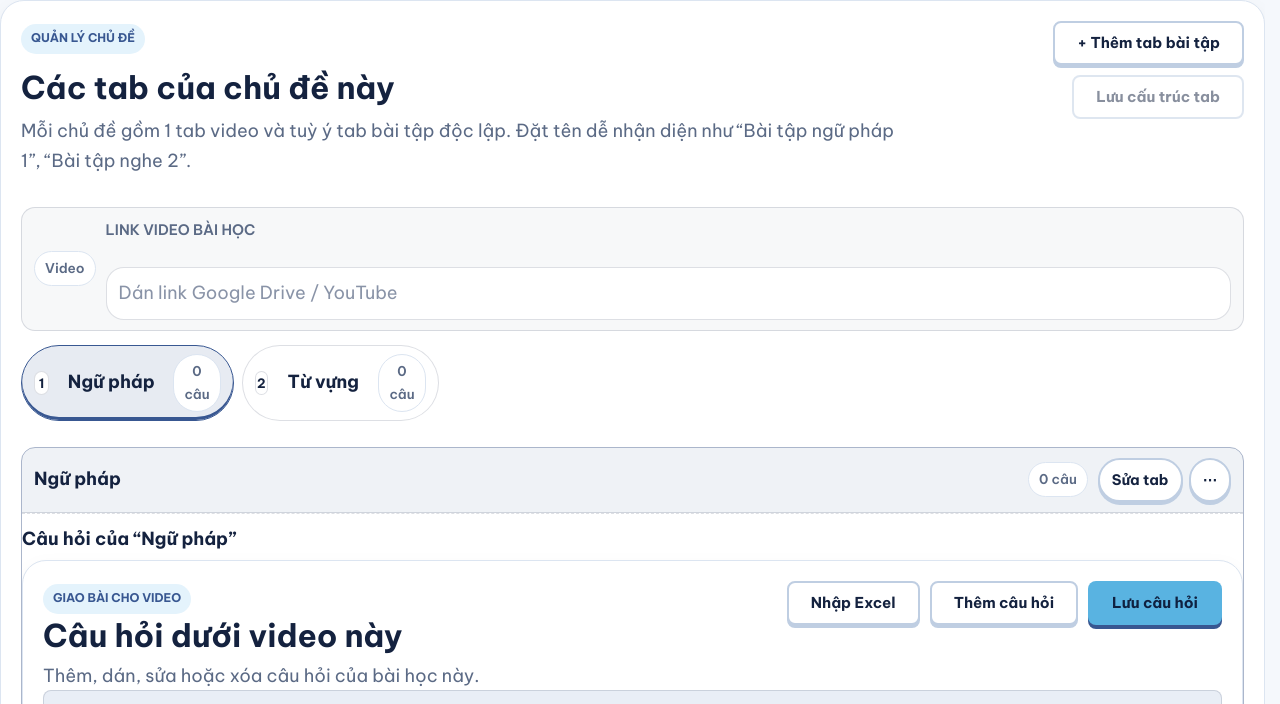
Scenario: LessonTabManager — nút Sửa tab › bấm "Sửa tab" mới mở ô đổi tên của tab đang mở
The width and height of the screenshot is (1280, 704).
Click the tab with class "lesson-tab-manager__chip" showing "2 Từ vựng 0 câu": click(340, 383) [242,345,439,420]
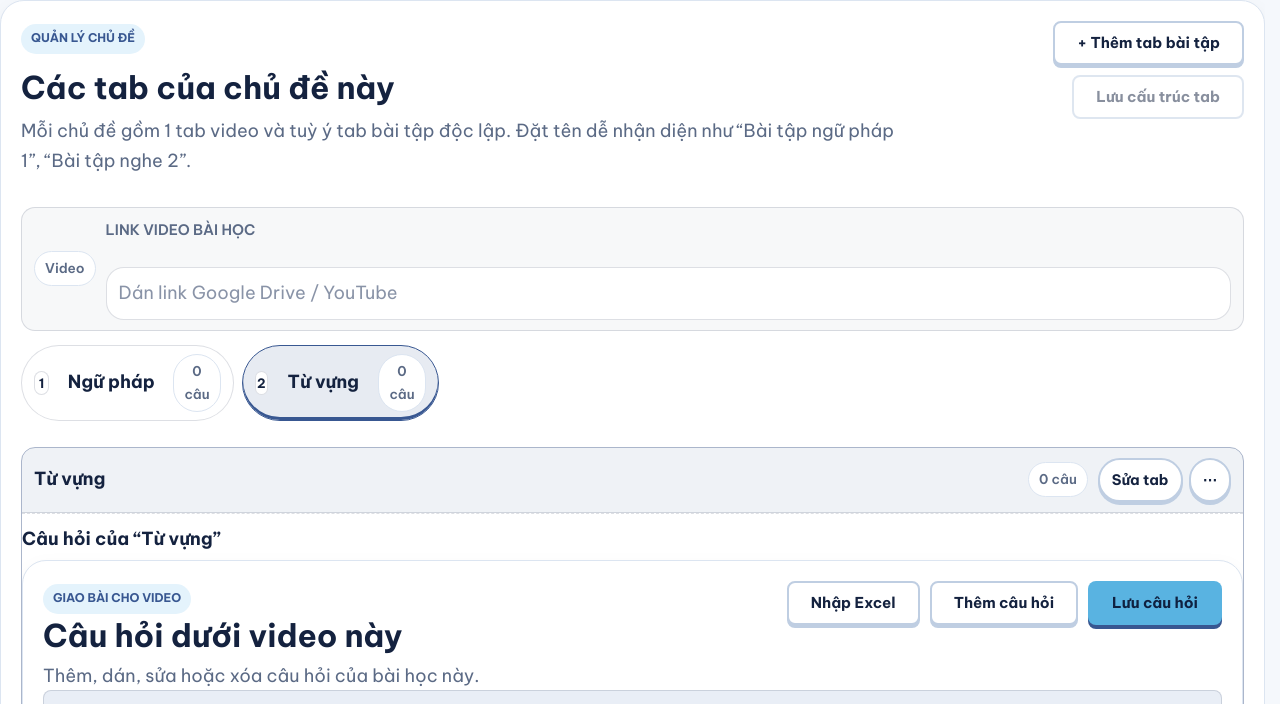
Click the button "Sửa tab": click(1140, 480) [1098,458,1182,502]
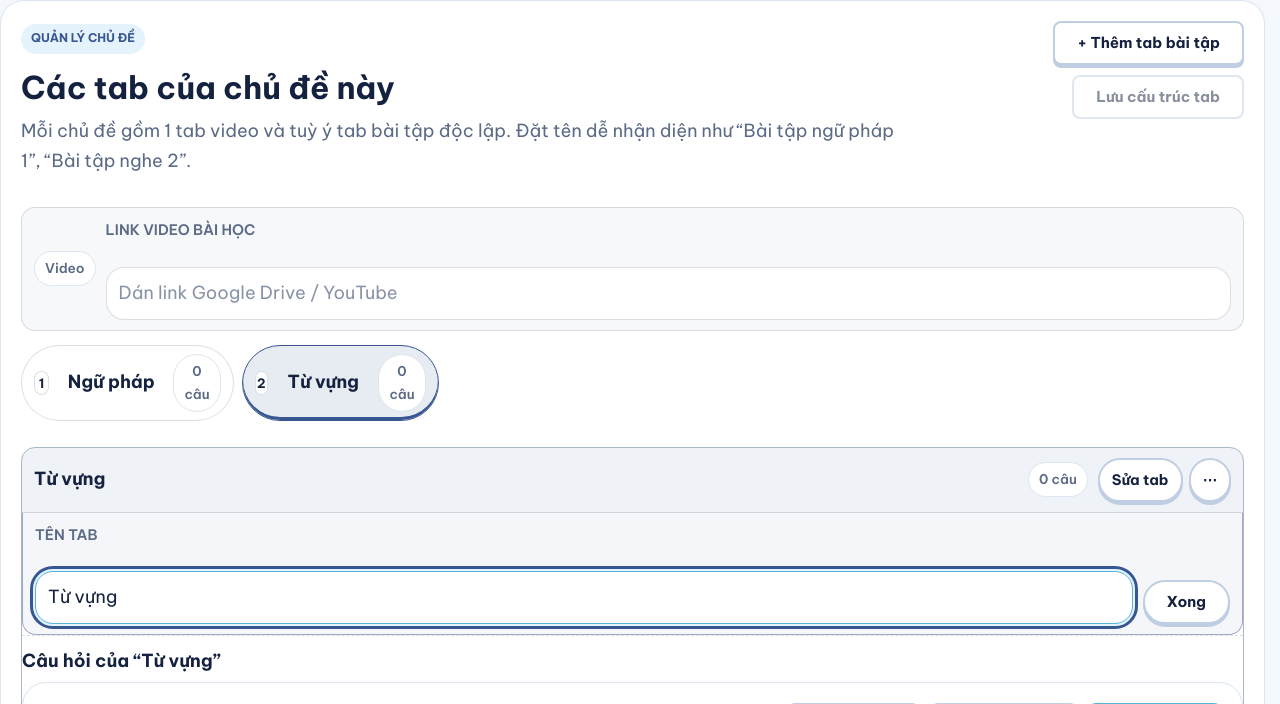
Check: the number of elements with class "lesson-tab-manager__rename" is 1, box [22,512,1243,635]
Check: the field labelled "Tên tab" holds "Từ vựng", box [35,571,1132,624]
